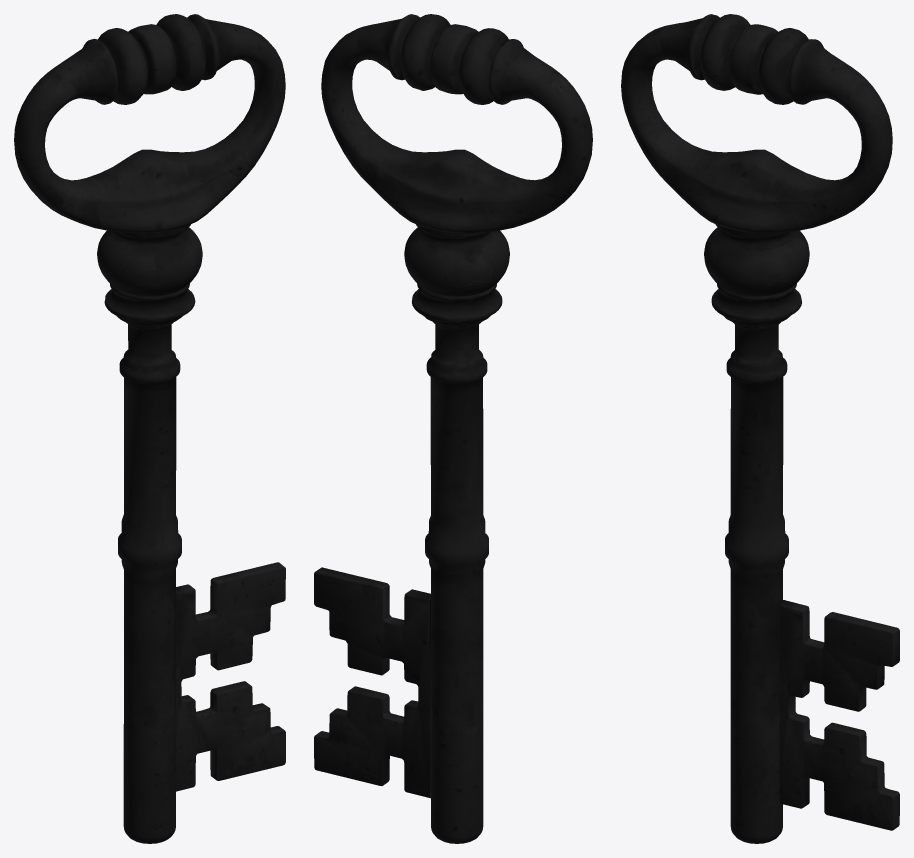
File: llave.glb
3 renders of one model, left to right at view 1: azimuth 30°, elevation 25°; view 2: azimuth 150°, elevation 25°; view 3: azimuth 330°, elevation 25°, orthographic.
Visible parts, largest first — view 1: Object_2; view 2: Object_2; view 3: Object_2.
Part boxes in pixels (x1,y1,x2,y2): Object_2: [14, 14, 285, 843]; Object_2: [314, 14, 592, 843]; Object_2: [621, 14, 899, 843].
Size of the model in its own units: 89.2 by 257 by 30.97.
Materials: 1 (1 with a texture image).
